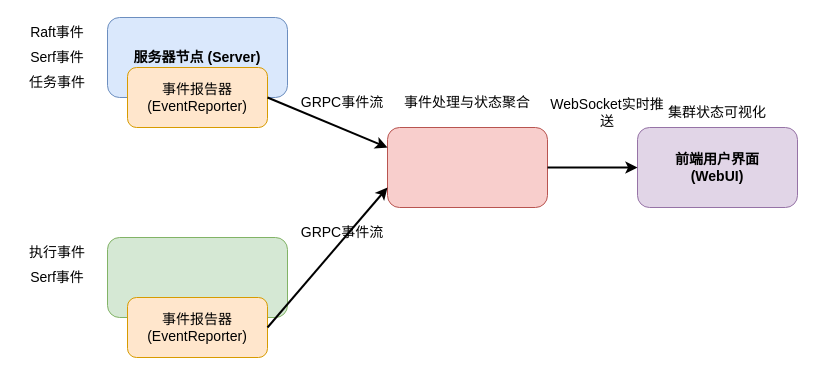
This 815x375 diagram has some shape labels left out. Each missing label, with the centre of its shape:
事件聚合器 (Aggregator): (x=467, y=167)
代理节点 (Agent): (x=197, y=277)
